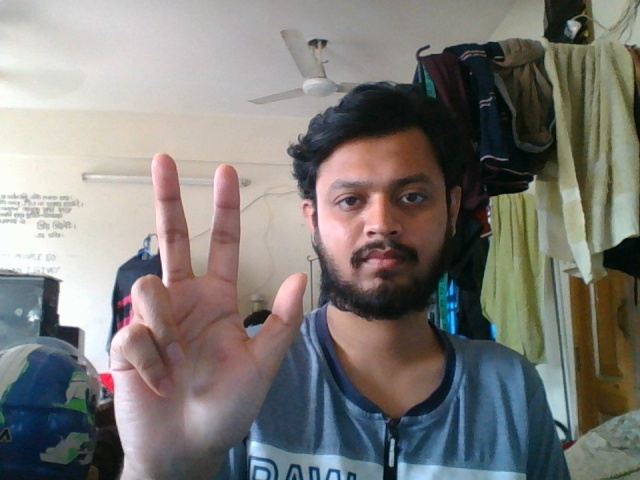da: (112, 146, 312, 467)
